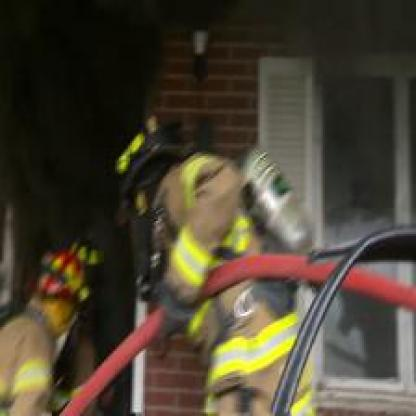other: (42, 232, 85, 331), (82, 346, 116, 390)
